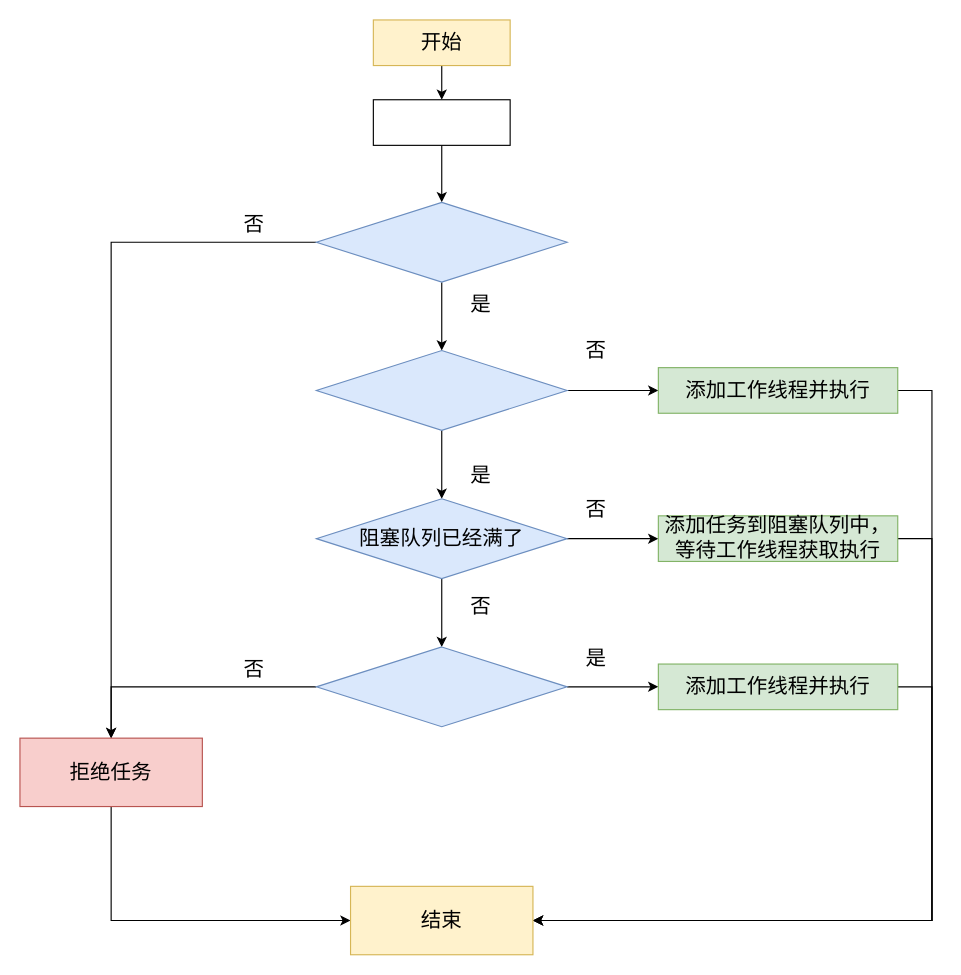
Image size: 961x975. Some labels were removed from this diagram. The centre of each missing label's shape, as x and y in pixels:
"提交任务" belongs at [441,122].
"线程数小于最大线程数" belongs at [441,686].
"线程数小于核心数" belongs at [441,389].
"线程池是否还在运行" belongs at [441,241].
